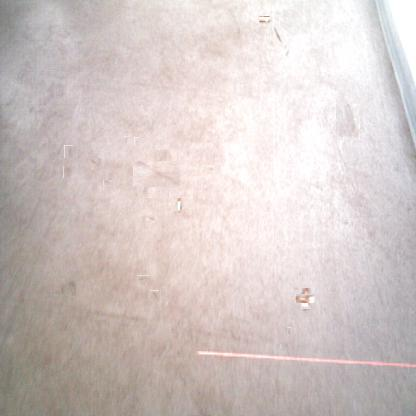dirty: (298, 291, 314, 306), (176, 198, 182, 212), (258, 16, 270, 22)
mark: (138, 156, 174, 192), (336, 104, 360, 140), (54, 278, 76, 297), (273, 26, 283, 44), (63, 146, 74, 157), (91, 158, 101, 170), (149, 291, 160, 301), (63, 166, 72, 178), (147, 212, 157, 222), (139, 274, 148, 284), (284, 41, 290, 56), (105, 178, 113, 187), (378, 262, 384, 274), (293, 285, 301, 294), (207, 165, 214, 174), (342, 219, 350, 226), (134, 137, 139, 146), (287, 327, 291, 336), (123, 136, 127, 143)
